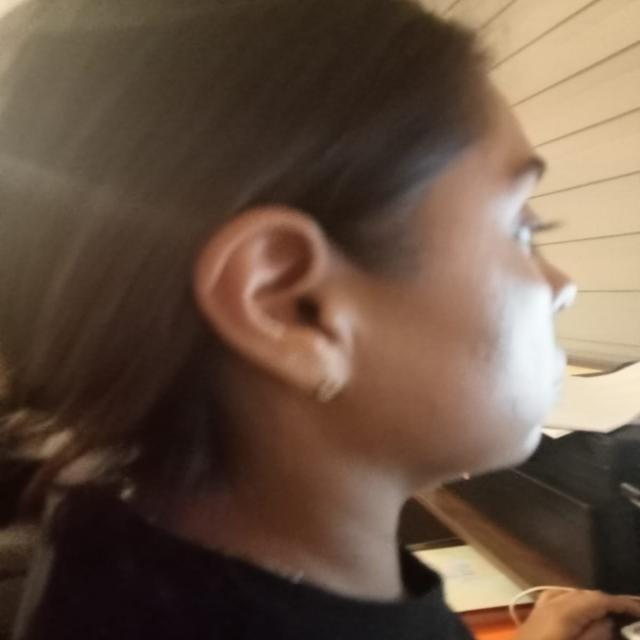ear: (193, 205, 362, 398)
